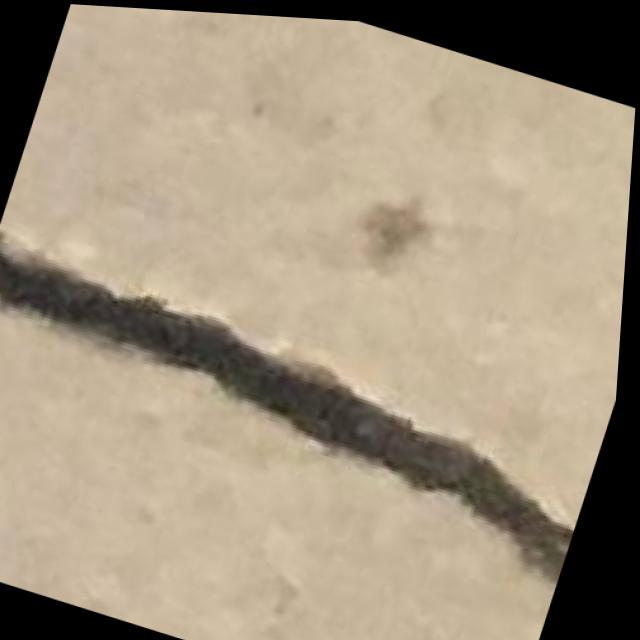Crack: (0, 194, 627, 616)
